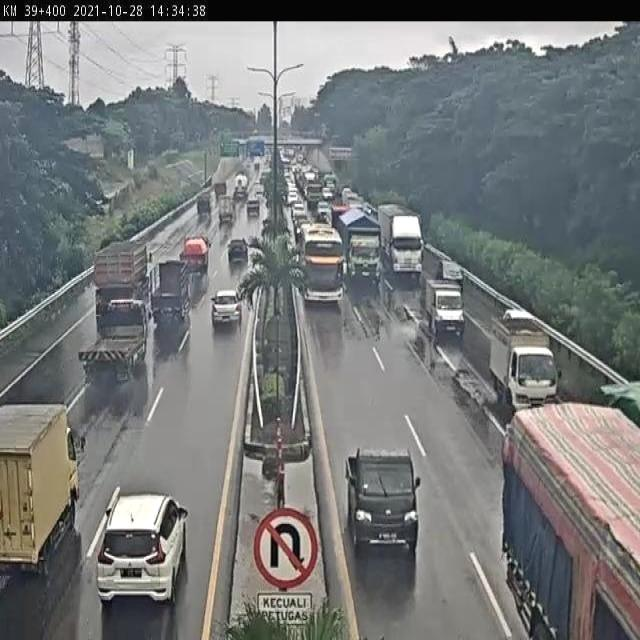Bus: (300, 224, 346, 306)
Car: (95, 490, 189, 606), (344, 446, 422, 554), (210, 288, 242, 327), (227, 238, 248, 264), (316, 201, 332, 223), (342, 188, 361, 205), (246, 195, 260, 218), (292, 200, 306, 218), (287, 190, 298, 206), (254, 183, 264, 200), (322, 187, 333, 201)
Truck: (497, 397, 640, 640), (0, 400, 85, 570), (487, 309, 556, 412), (81, 296, 149, 383), (92, 240, 149, 317), (335, 207, 380, 286), (378, 205, 424, 282), (148, 259, 191, 340), (424, 275, 464, 339), (178, 232, 212, 274), (219, 195, 234, 222)
